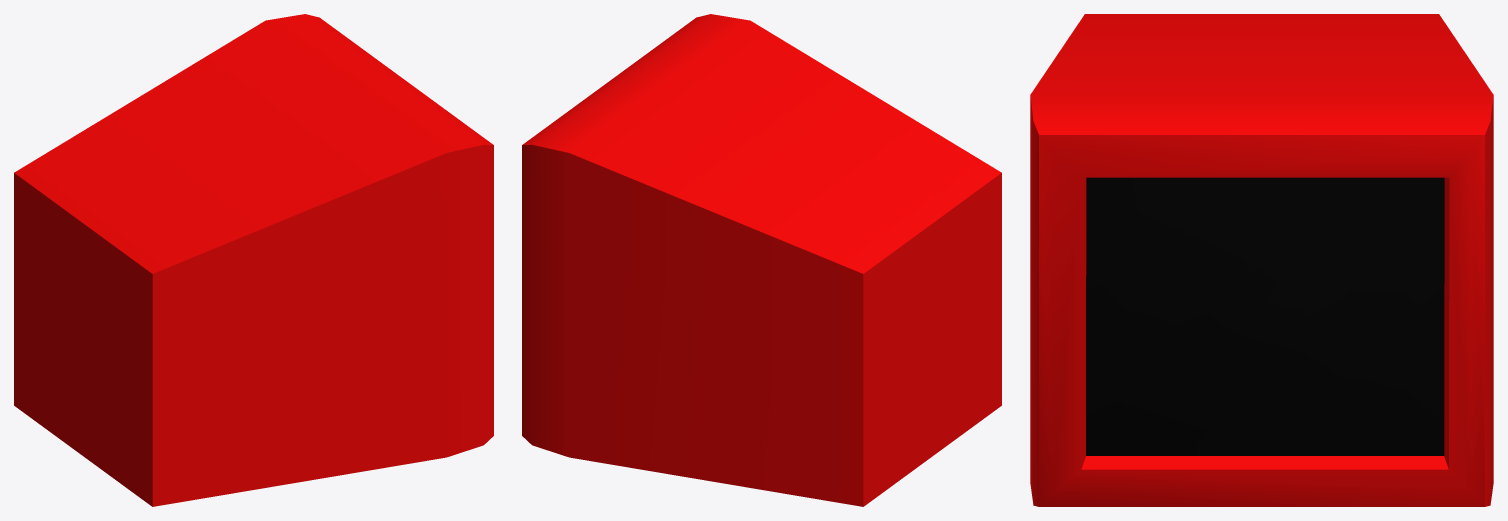
The picture shows the model from 3 angles, left to right: view 1: azimuth 30°, elevation 25°; view 2: azimuth 150°, elevation 25°; view 3: azimuth 270°, elevation 25°; orthographic projection. The views are drawn at different scales.
Parts seen in each view (by area): view 1: Box001; view 2: Box001; view 3: Box001.
Part boxes in pixels (x1,y1,x2,y2): Box001: [14, 14, 493, 506]; Box001: [522, 14, 1001, 506]; Box001: [1030, 14, 1493, 506].
Size of the model in its own units: 34.45 by 29.7 by 32.
